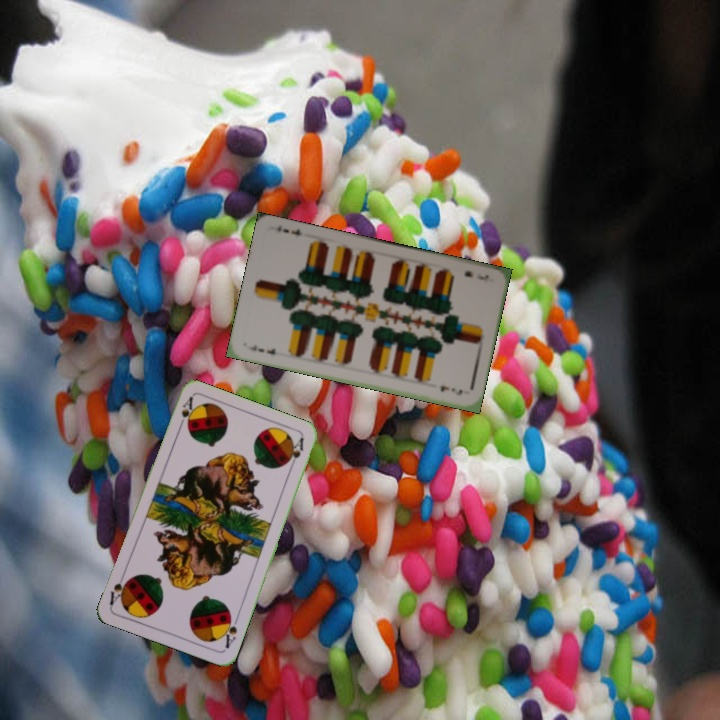E7: (244, 341, 279, 357), (460, 267, 492, 283)
SA: (218, 610, 241, 651), (174, 393, 196, 432)
